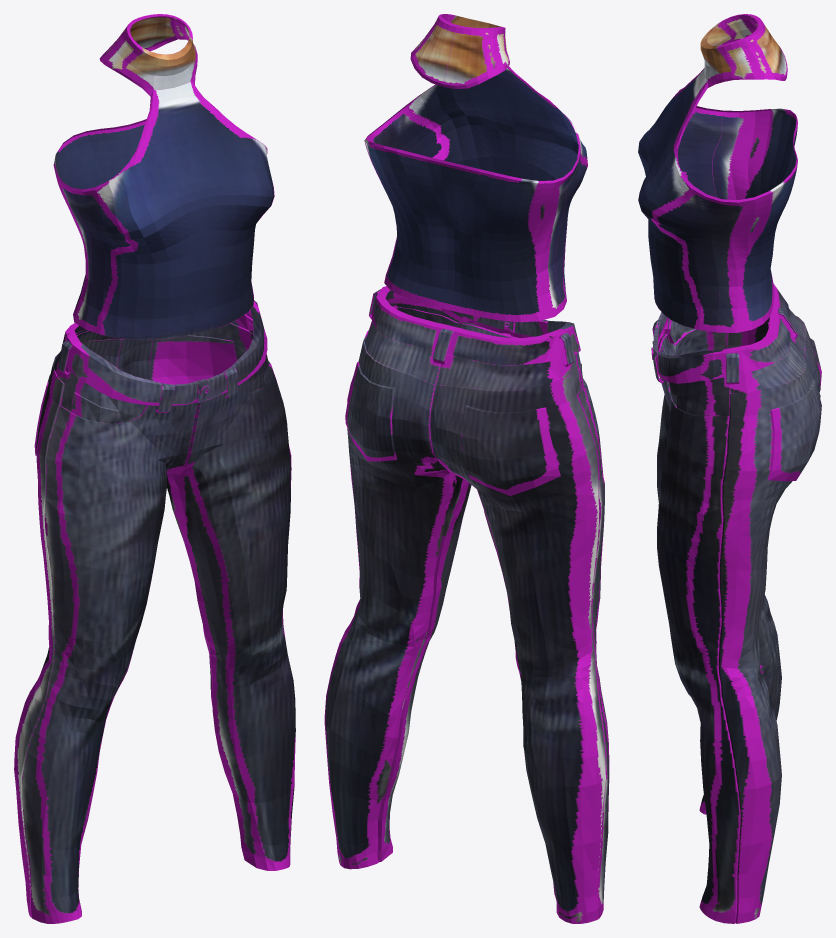
The picture shows the model from 3 angles, left to right: view 1: azimuth 30°, elevation 25°; view 2: azimuth 150°, elevation 25°; view 3: azimuth 270°, elevation 25°; orthographic projection. The views are drawn at different scales.
Size of the model in its own units: 0.3008 by 0.9115 by 0.1809.
1 material, 1 textured.
